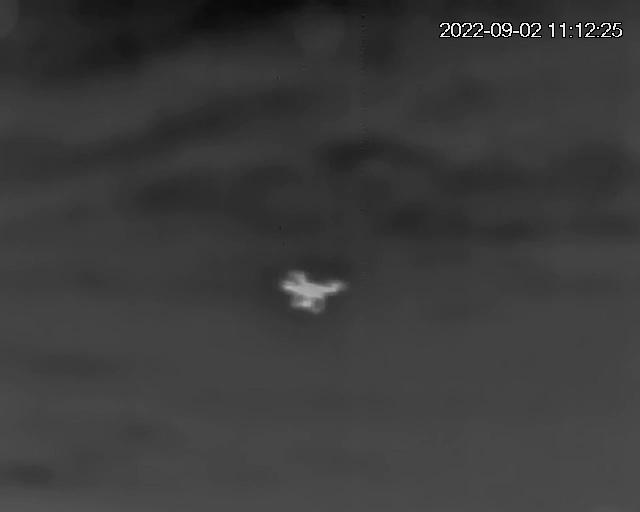DJI-Phantom: (280, 267, 351, 314)
